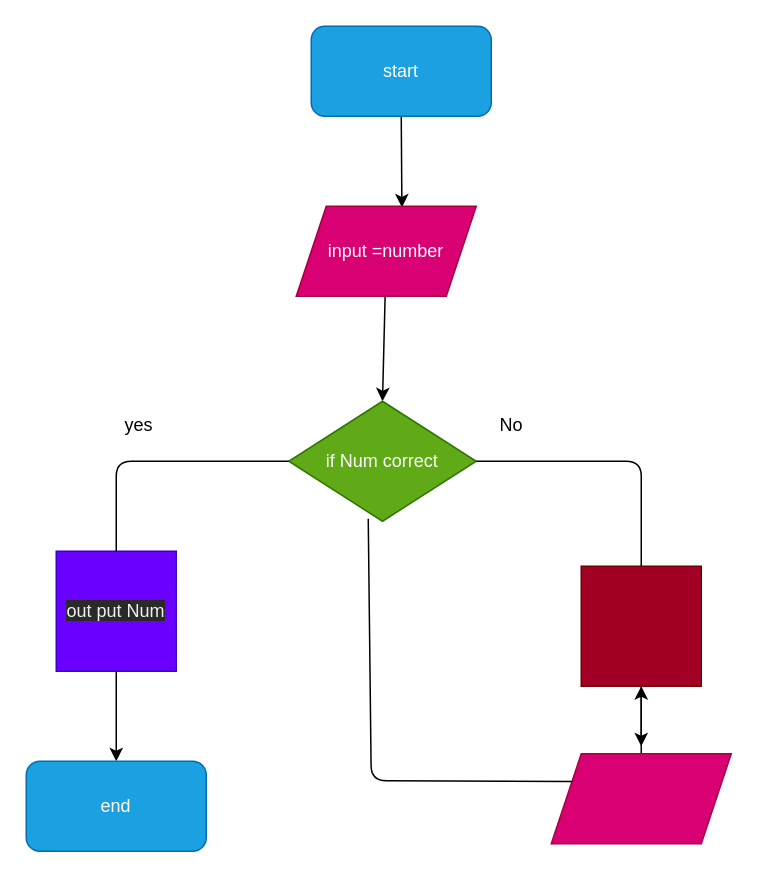
Image size: 758x878. Some labels were removed from this diagram. Each missing label, with the centre of its shape:
"input new Num" goes at point 640,798.
"Num not correct" goes at point 640,625.
